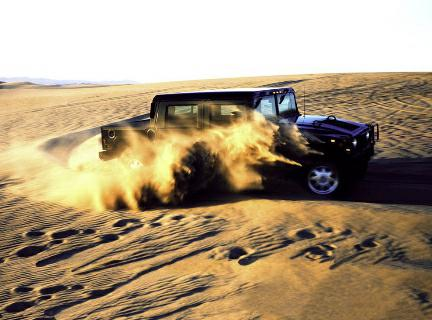红旗-H7: (97, 87, 382, 200)
